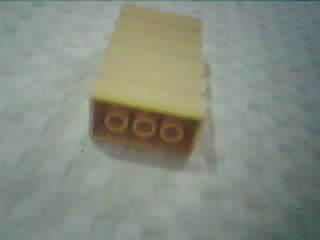lego: (86, 3, 207, 159)
